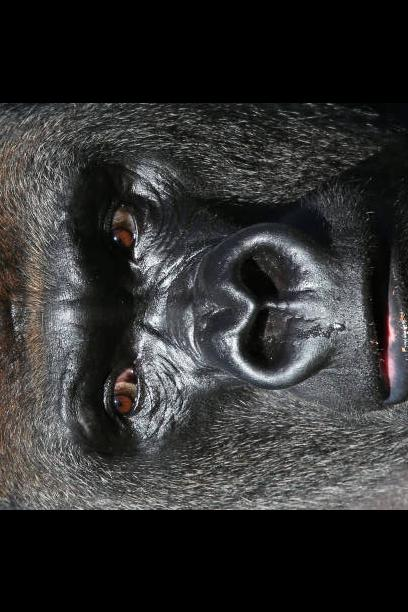gorille_Autres: (0, 102, 408, 500)
